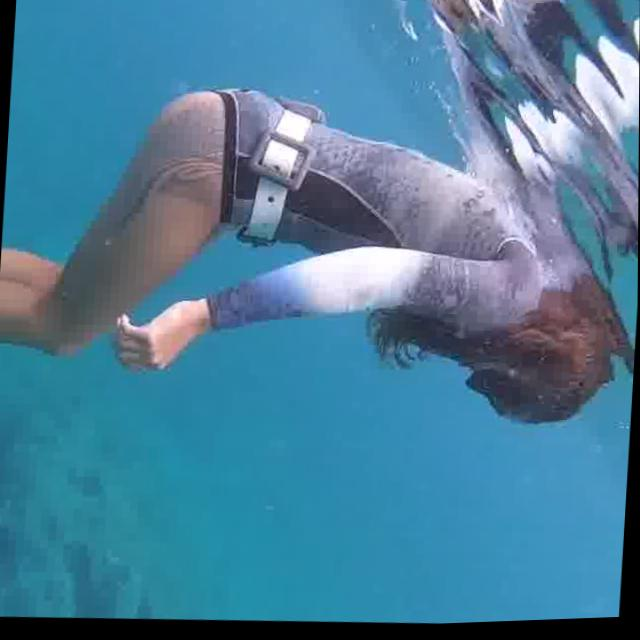human: (0, 48, 640, 463)
